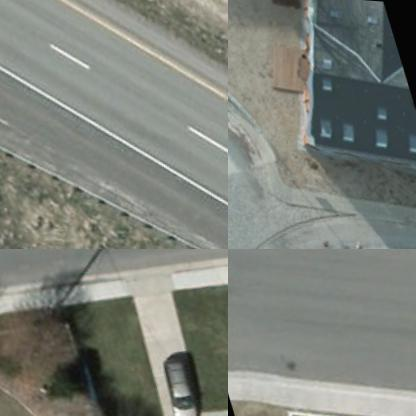car: (152, 345, 200, 415)
